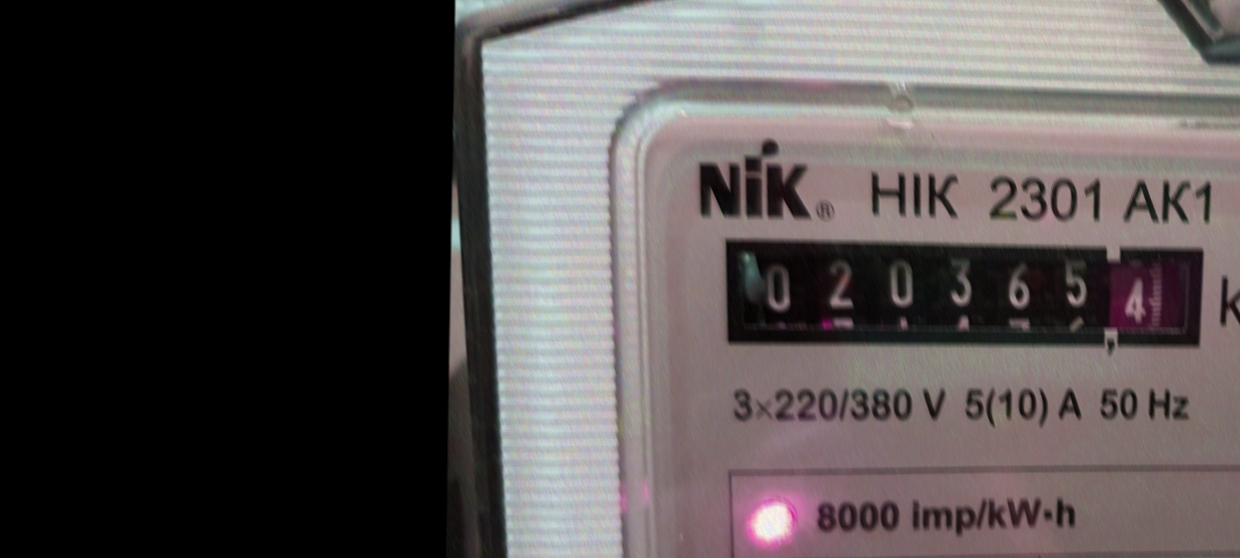0: (762, 259, 796, 314), (888, 258, 918, 308)
2: (826, 257, 857, 308)
3: (947, 257, 976, 307)
4: (1123, 274, 1147, 323)
5: (1064, 259, 1091, 306)
6: (1006, 258, 1033, 309)
screen: (711, 221, 1221, 367)
